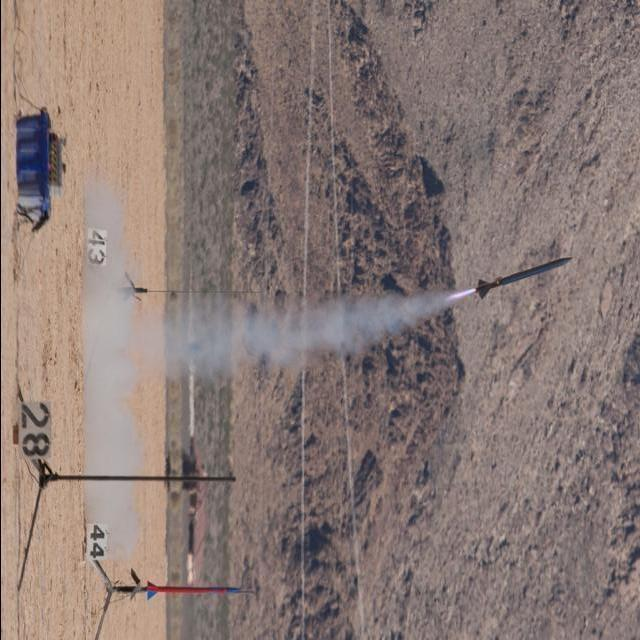missile: (470, 251, 576, 298)
